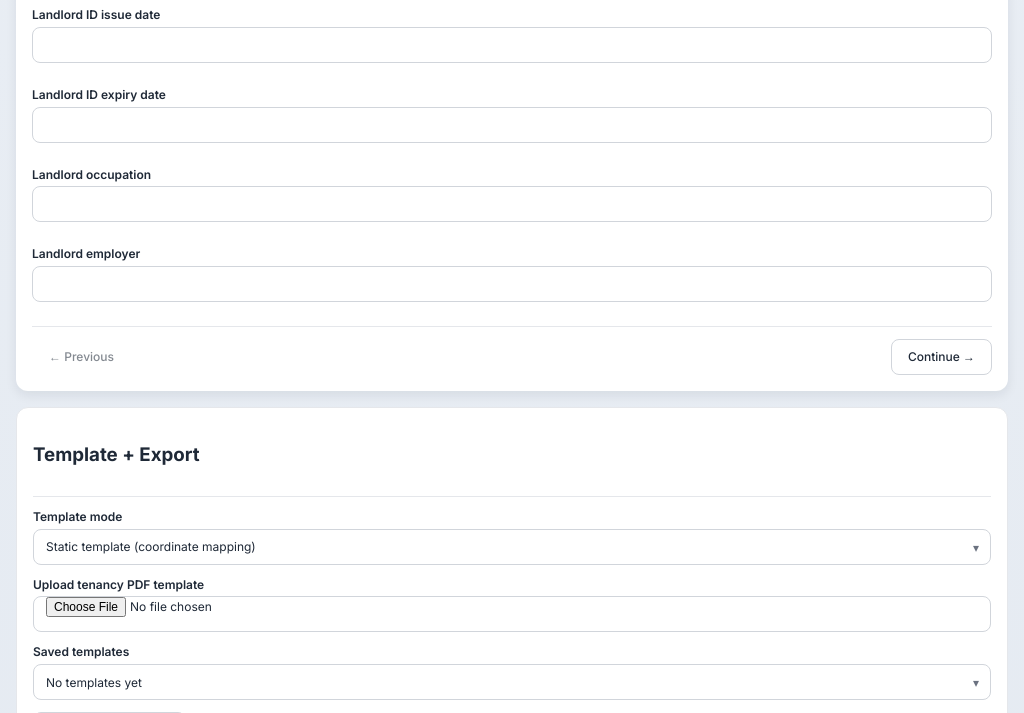
Test: TenancyContractBuilderPage integration shell › returns to previous step when Previous is clicked after step advance
(page scrolled)
Step 1. Click the button "Continue →" → [941, 357], box [891, 339, 992, 375]
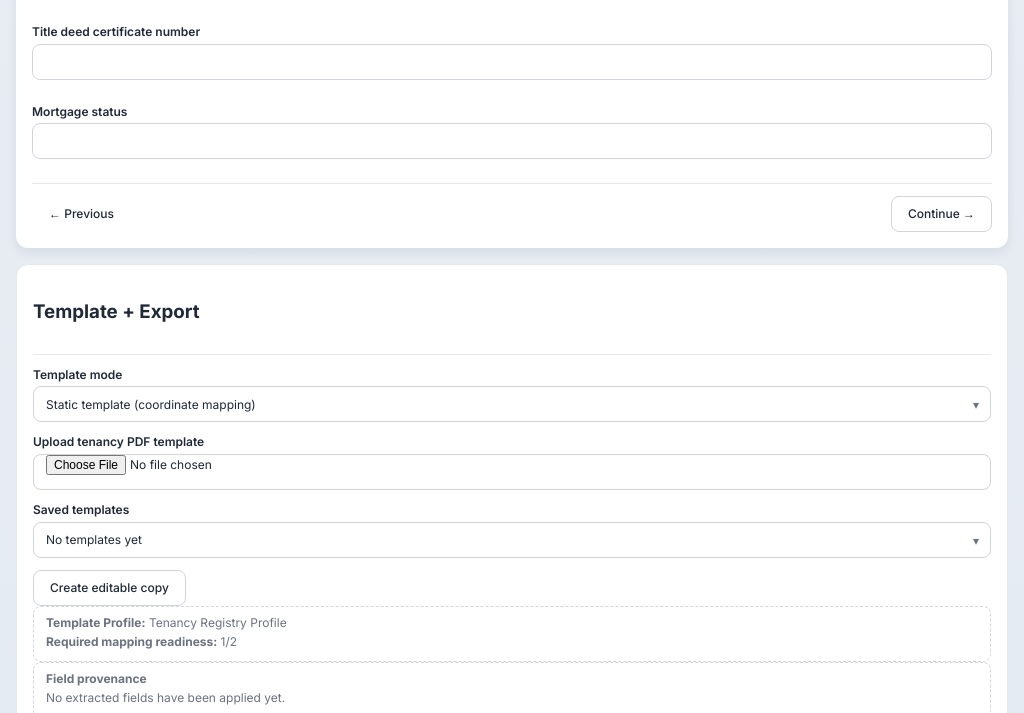
Step 2. Click the button "← Previous" → [82, 214], box [32, 196, 131, 232]
(page scrolled)
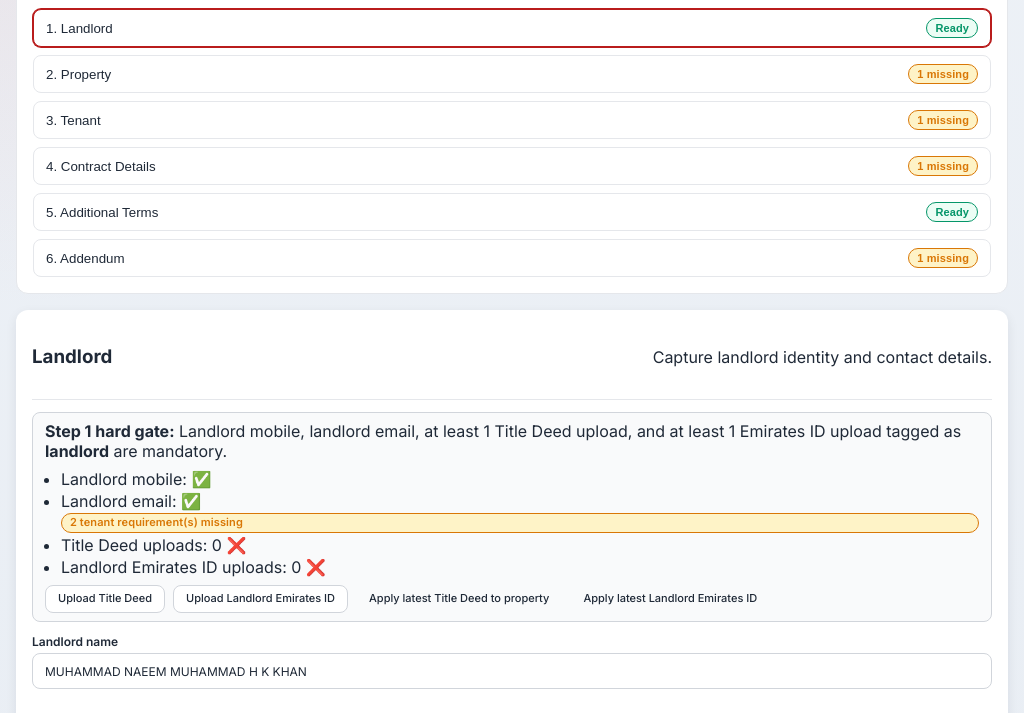
Expected: the heading "Landlord" is shown, [32, 345, 112, 368]
